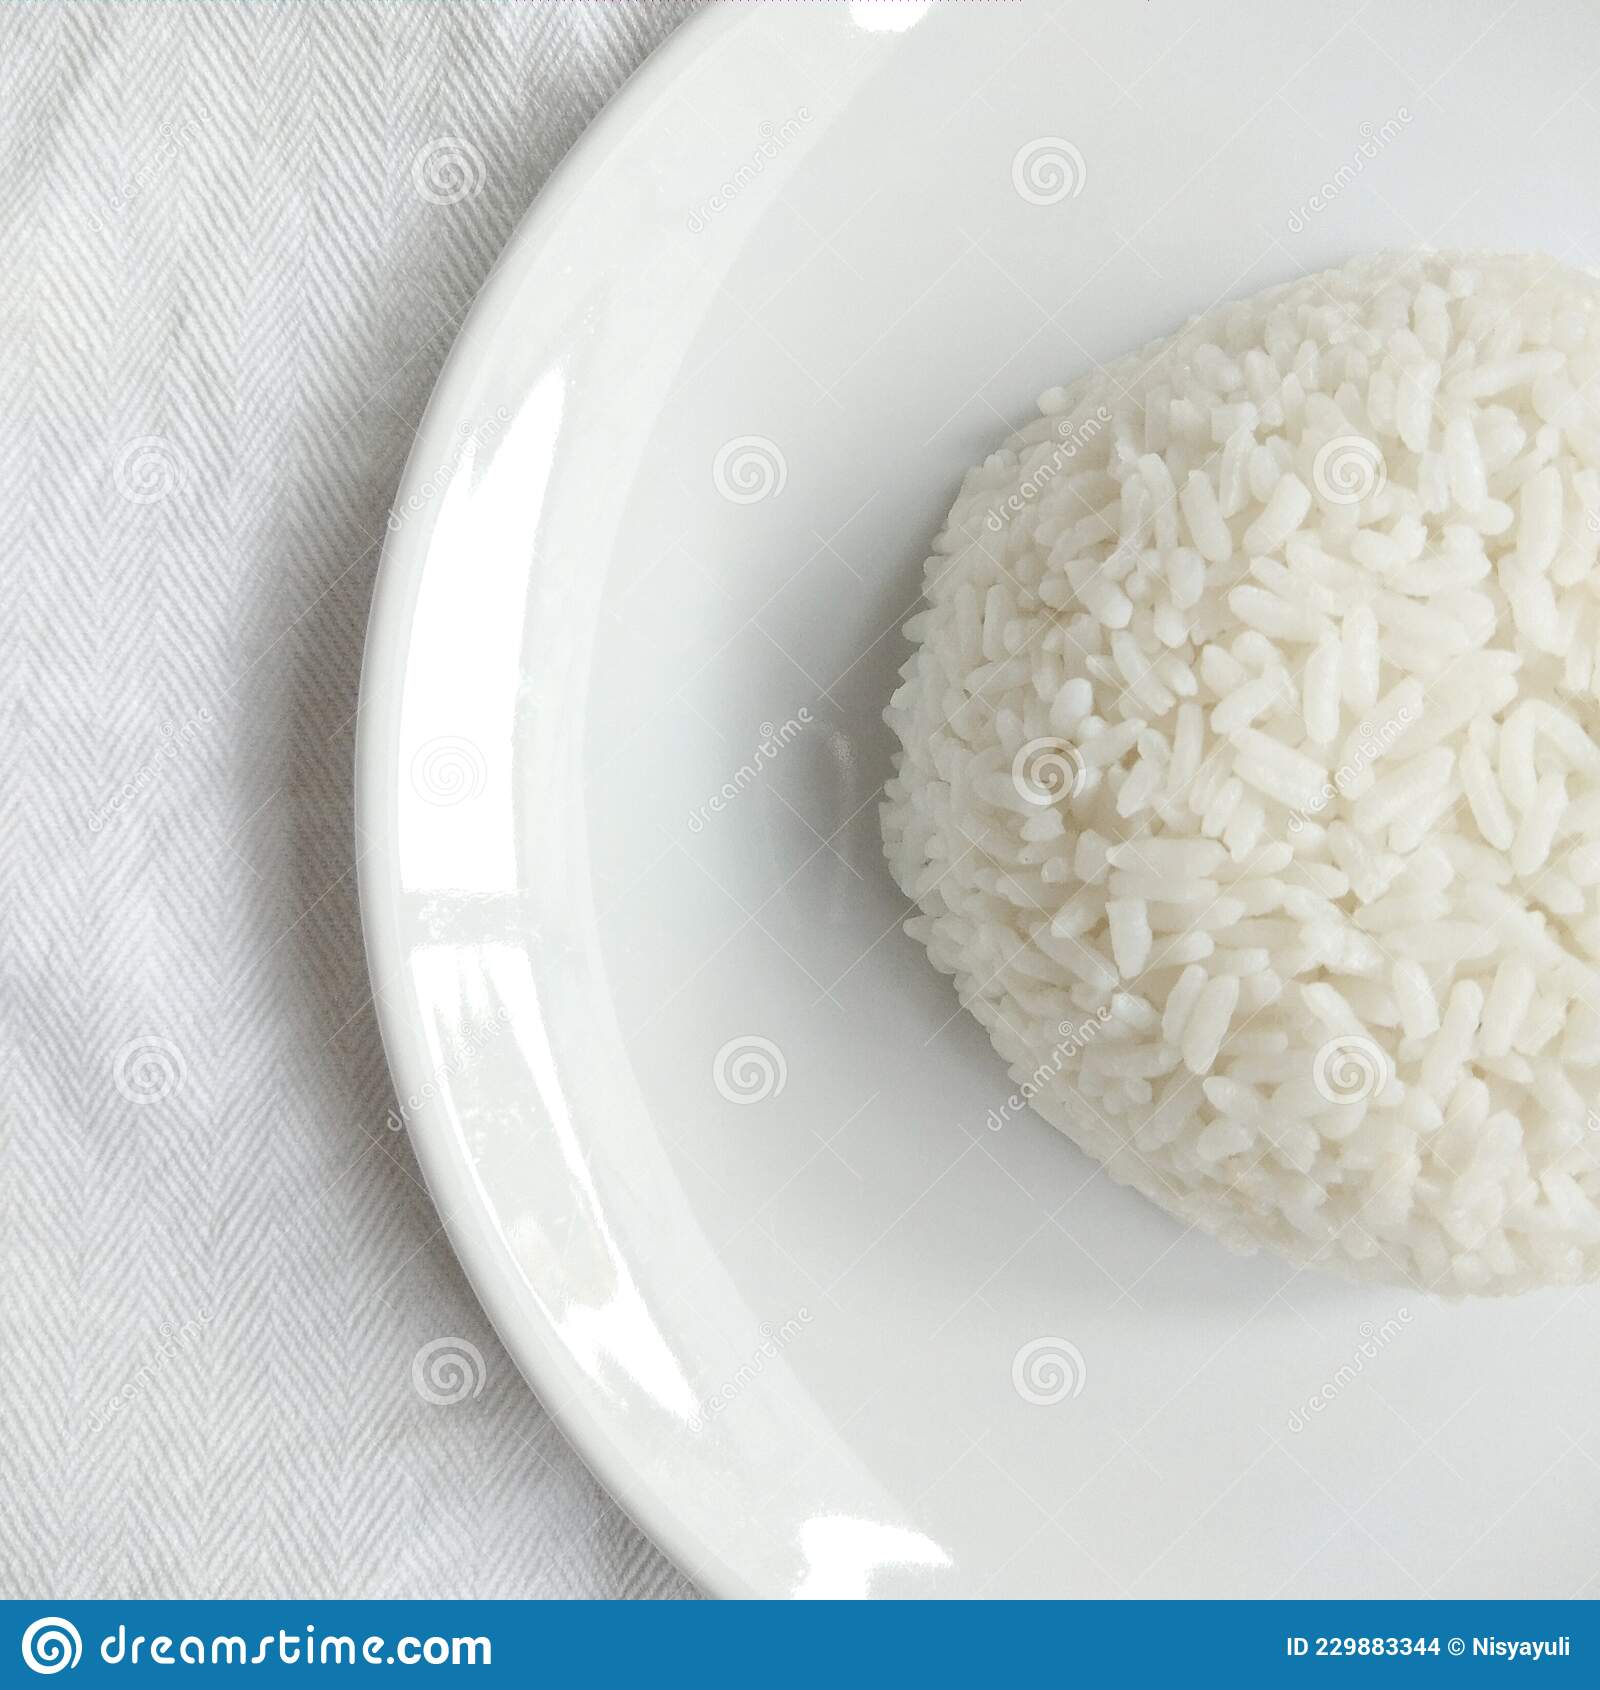Nasi Putih: (780, 153, 1600, 1424)
